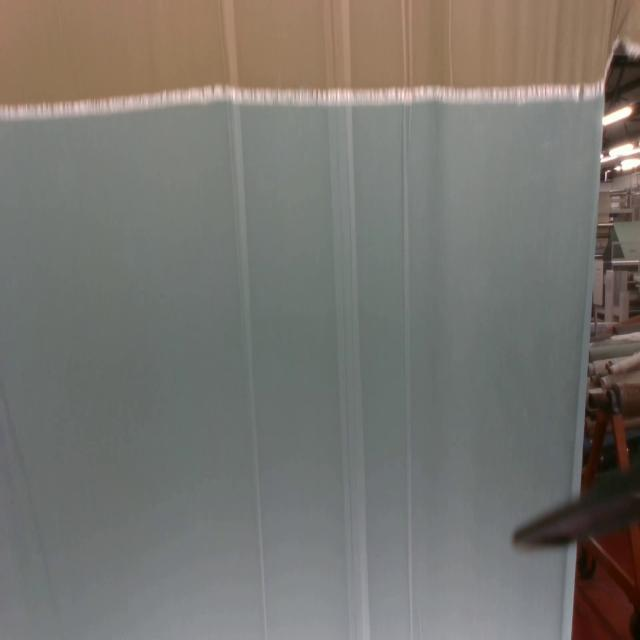crease: (220, 2, 267, 640), (323, 0, 369, 640), (0, 381, 53, 583), (402, 0, 416, 640), (446, 0, 454, 88)
